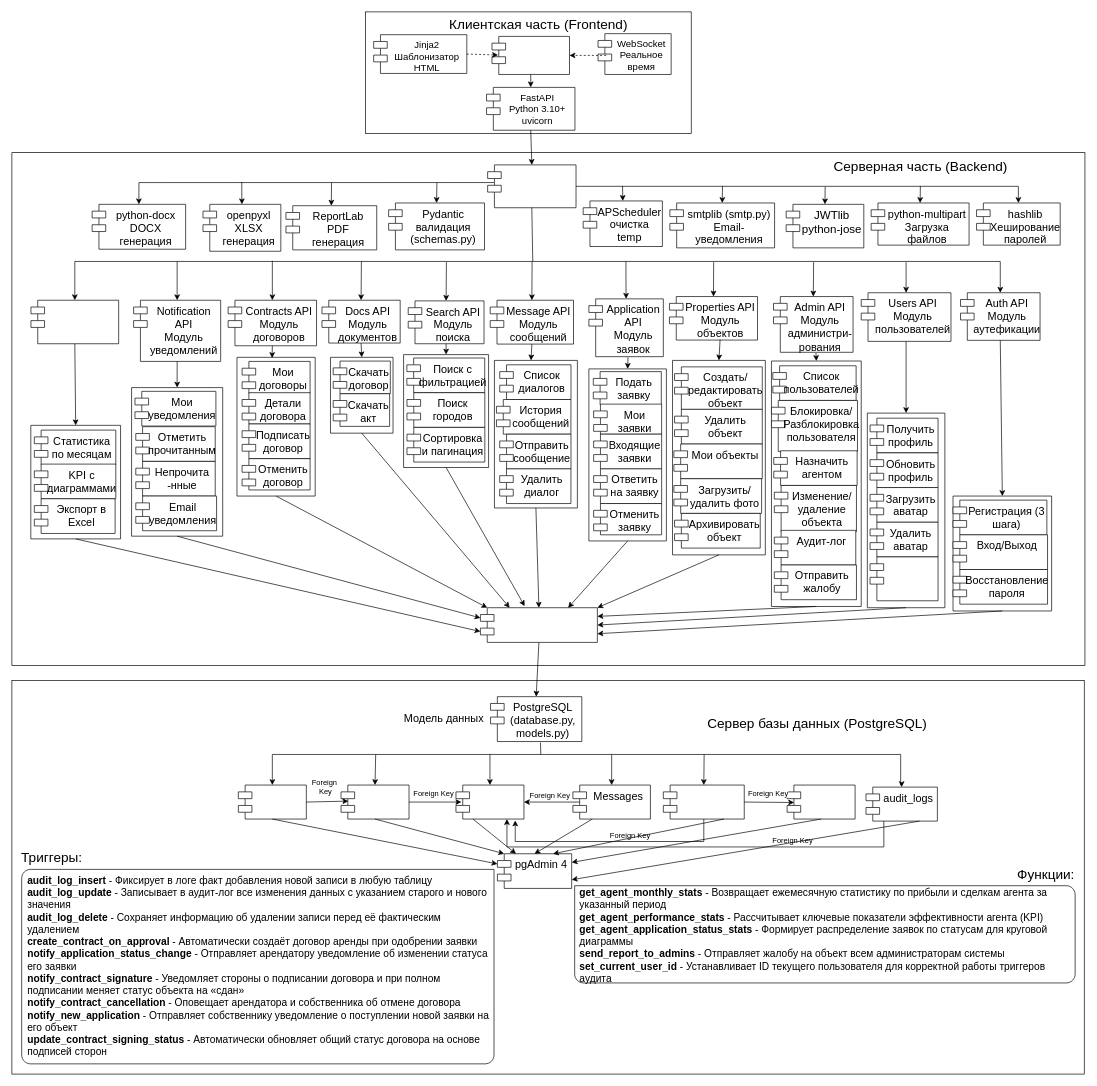
Image size: 1097x1086. Some labels were removed from this diagram. The centre of each missing label's shape, as x and y in pixels:
Application: point (703, 801)
Contracts: point (820, 801)
FastAPI (HTML+CSS+ JS): point (530, 55)
FastAPI (main.py) Точка входа: point (531, 186)
Properties: point (374, 801)
Property_ photos: point (272, 801)
SQLAlchemy ORM: point (538, 624)
Statistic API Модуль статистики: point (74, 322)
Users: point (489, 801)
Стать собствен- ником: point (903, 578)
